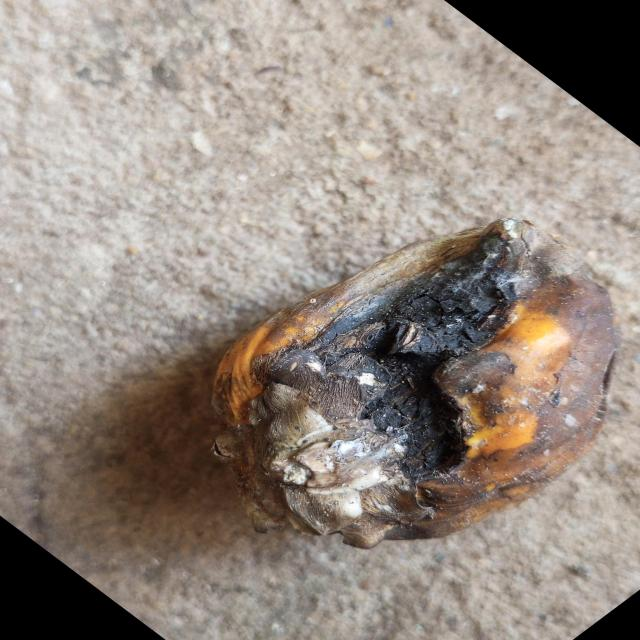damaged: (213, 219, 616, 548)
